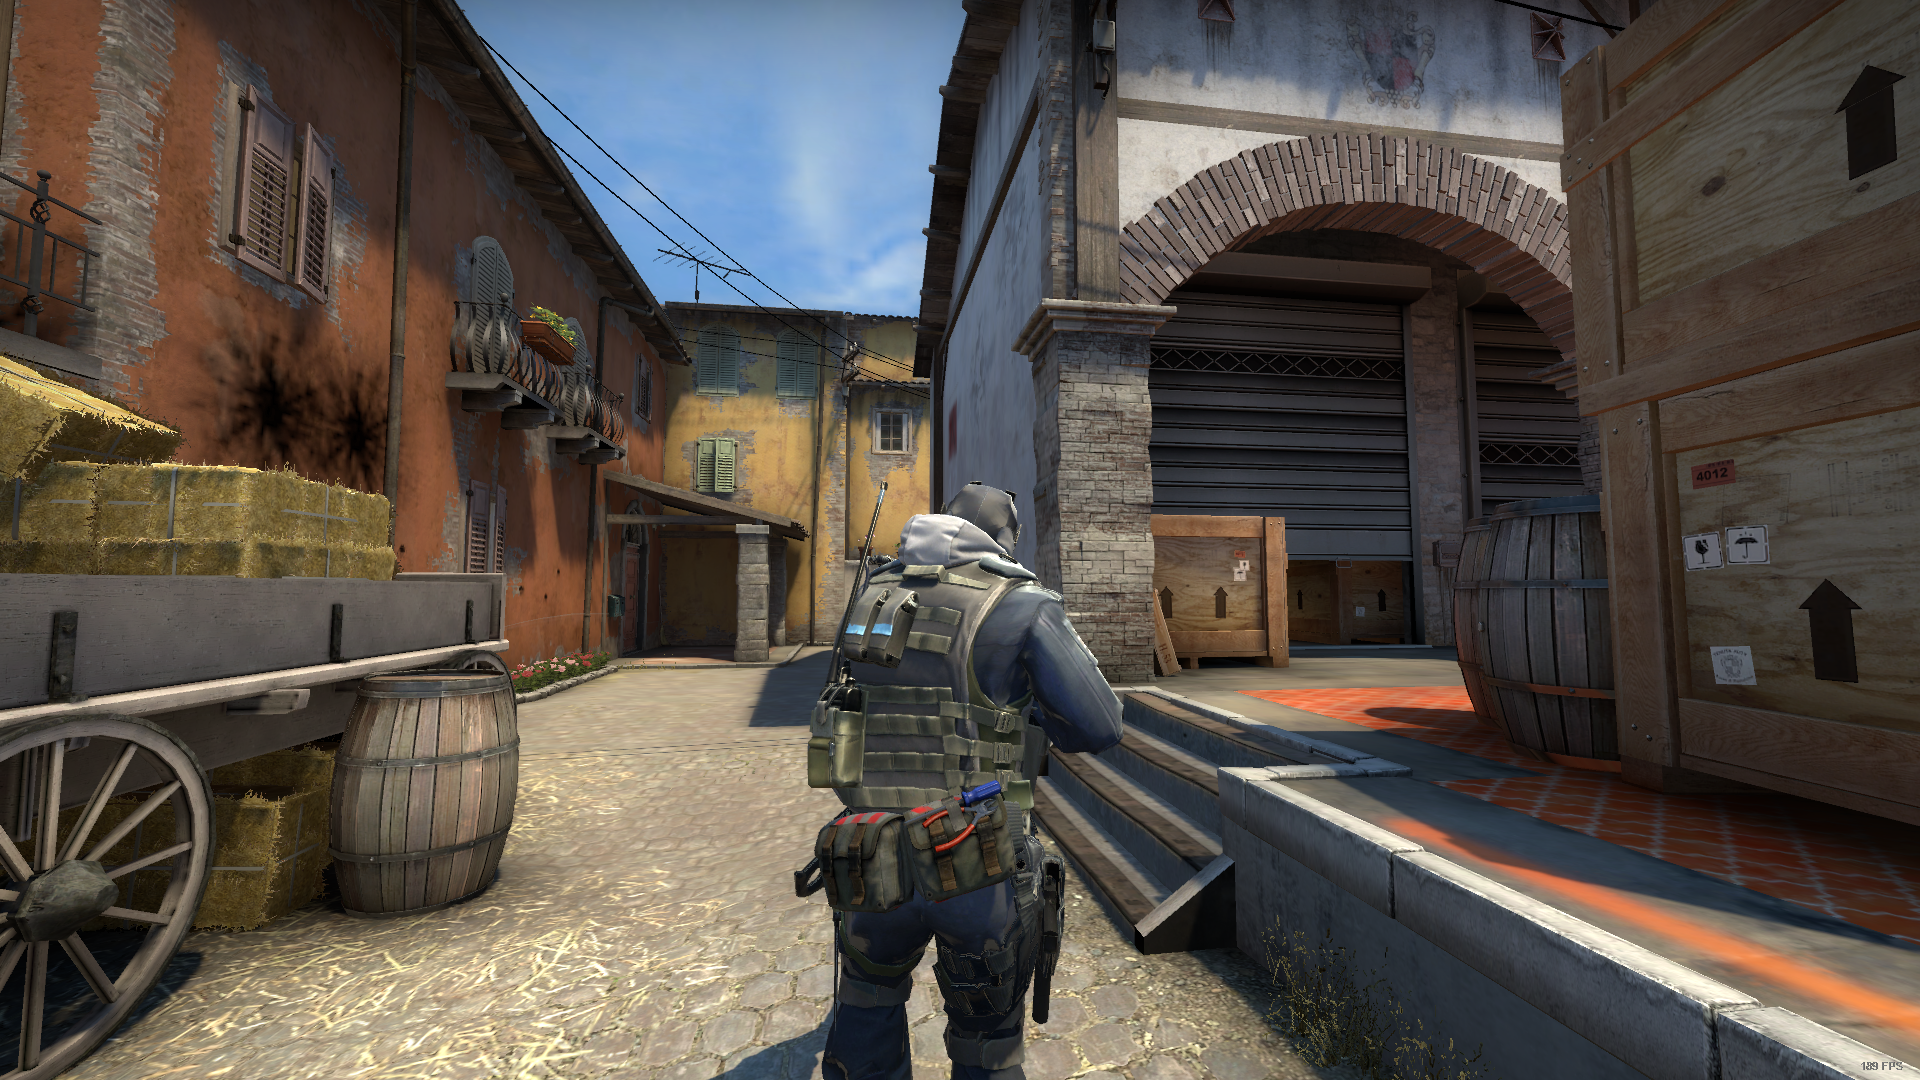ct: (796, 481, 1125, 1080)
